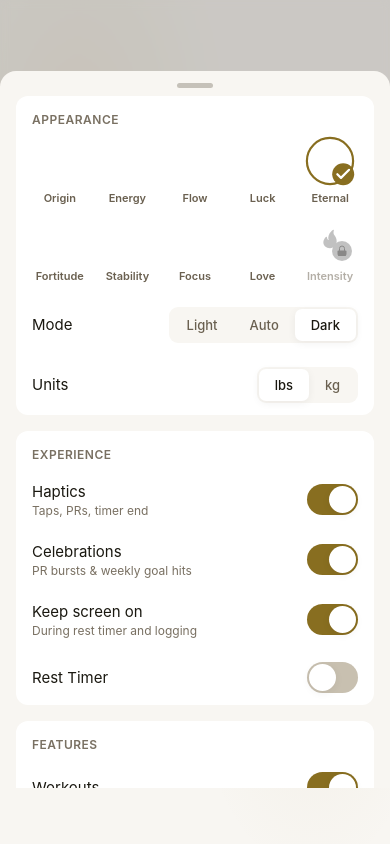
Test: SettingsSheet › progression prompts are keyboard-operable (LIFT-1305) › leaves the non-interactive XP read-out out of the tab order
Click the button with aria-label "Intensity theme — locked".
click(330, 250)  # box [302,217,358,283]
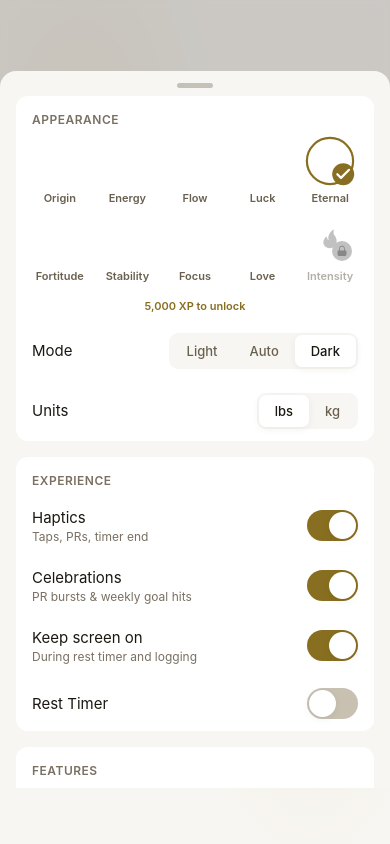
Expected: the text with class "badgePreviewOverlay" shows "XP to unlock", [144,299,246,313]
